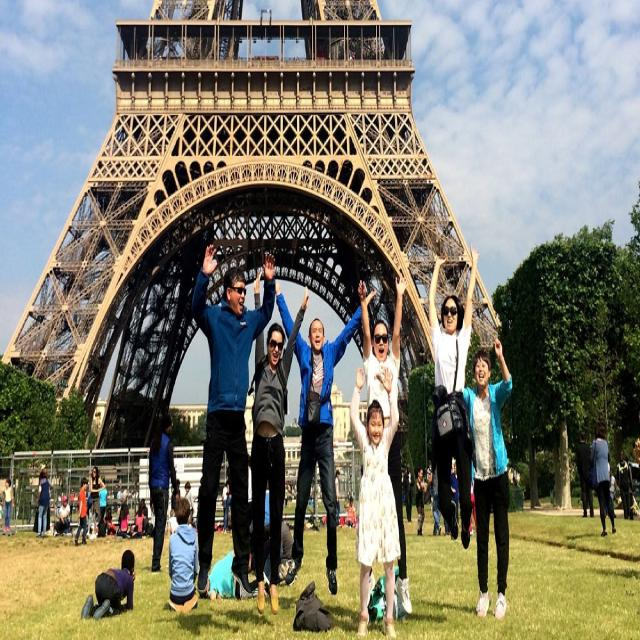body: (270, 280, 378, 598), (189, 234, 276, 604), (250, 263, 311, 615), (357, 271, 414, 617), (451, 332, 515, 620), (427, 240, 480, 551), (348, 363, 401, 639), (147, 408, 181, 572), (81, 545, 137, 622), (168, 495, 201, 607), (589, 425, 617, 540), (262, 519, 294, 580), (576, 430, 595, 520), (614, 446, 635, 520), (86, 466, 106, 538), (428, 456, 442, 538), (35, 468, 50, 539), (75, 475, 88, 546), (603, 464, 619, 520), (415, 464, 427, 538), (402, 459, 415, 523), (450, 461, 460, 524), (223, 465, 232, 534), (2, 477, 13, 533), (468, 478, 478, 536), (112, 482, 140, 502), (170, 476, 180, 531), (342, 492, 356, 531), (183, 481, 195, 526), (58, 494, 71, 533), (98, 476, 108, 520), (88, 499, 100, 535), (334, 468, 341, 526), (118, 501, 130, 534), (134, 505, 146, 534), (105, 512, 118, 538), (168, 507, 180, 535), (103, 506, 113, 536), (222, 483, 228, 531), (139, 498, 148, 519), (68, 487, 74, 516), (284, 484, 290, 509), (38, 461, 47, 475)
